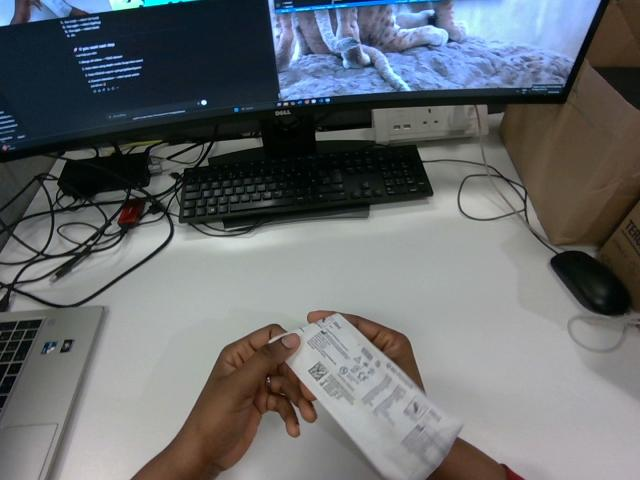syringe: (286, 314, 461, 479)
